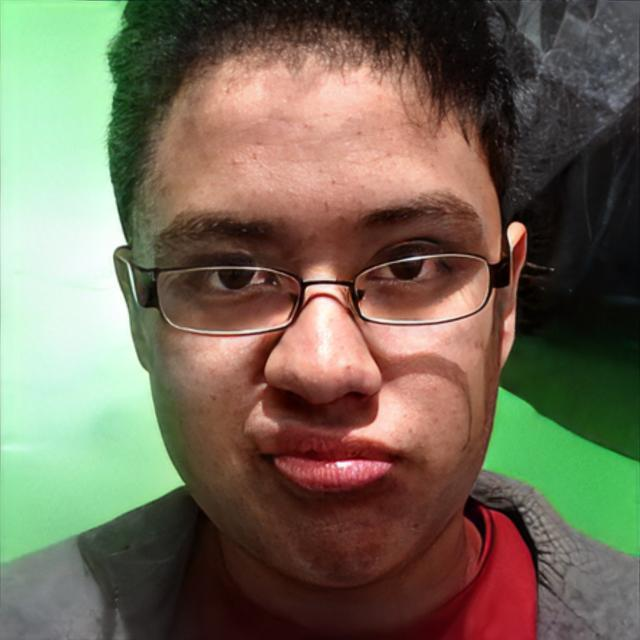content: (131, 24, 502, 590)
